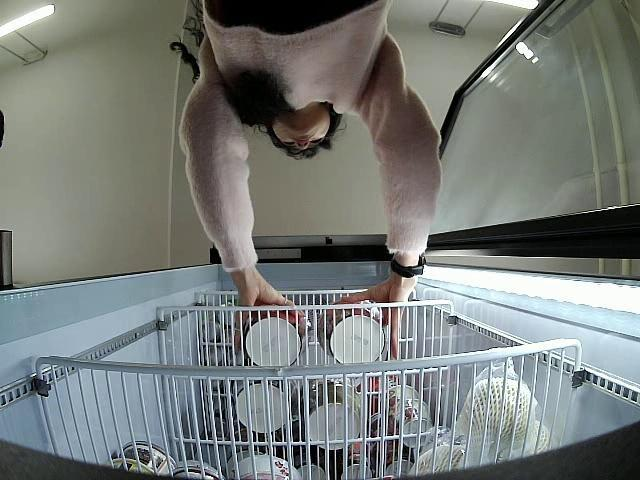01_ShinRamen_L: (318, 299, 388, 362), (244, 306, 303, 368)
